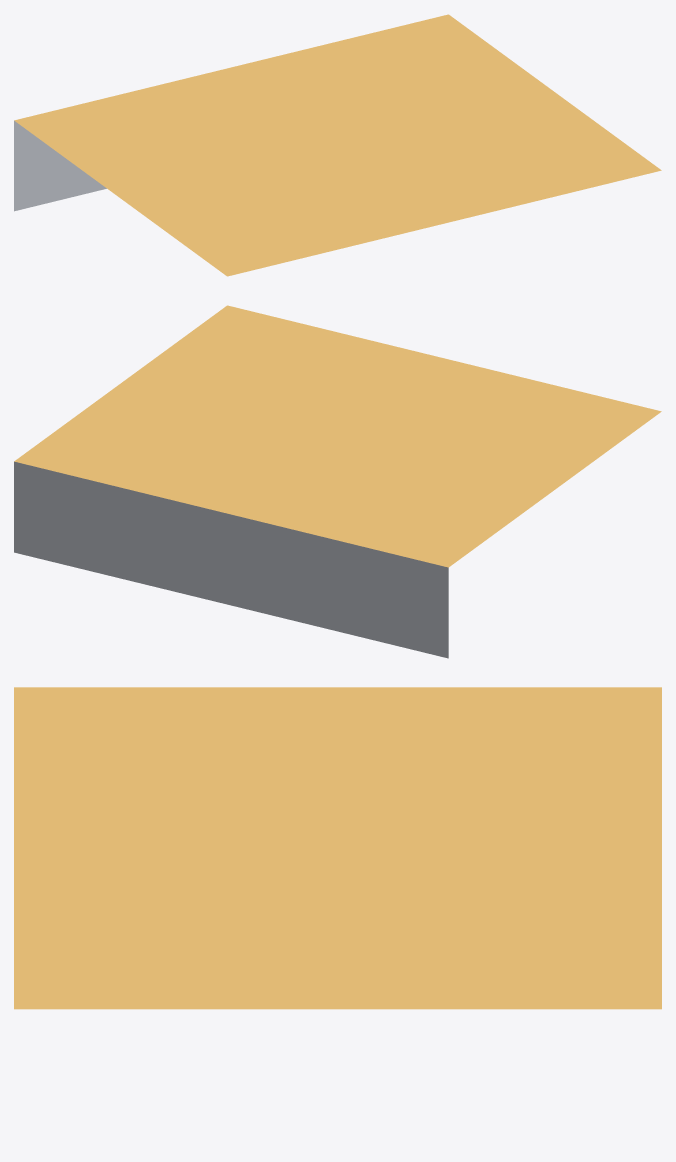
The picture shows the model from 3 angles, top to bottom: view 1: azimuth 30°, elevation 25°; view 2: azimuth 150°, elevation 25°; view 3: azimuth 270°, elevation 25°; orthographic projection. The views are drawn at different scales.
Bounding box in the file's own units: 1 × 0.2 × 0.85.
